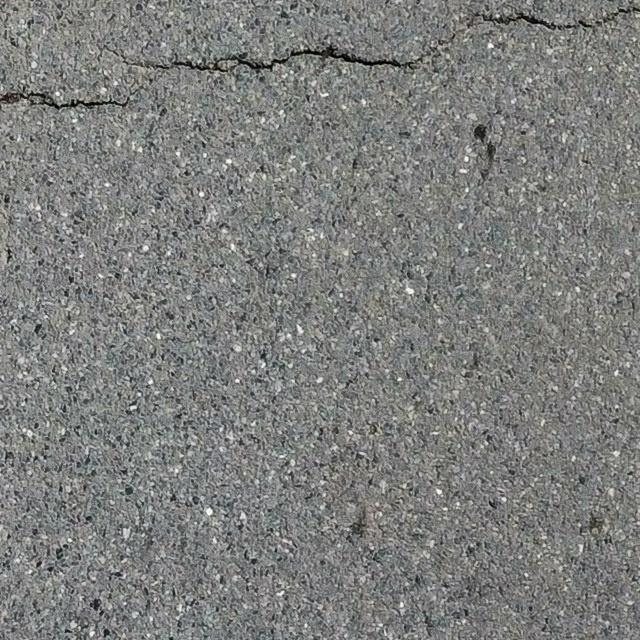TransverseCrack: (131, 4, 640, 72), (1, 90, 130, 106)
